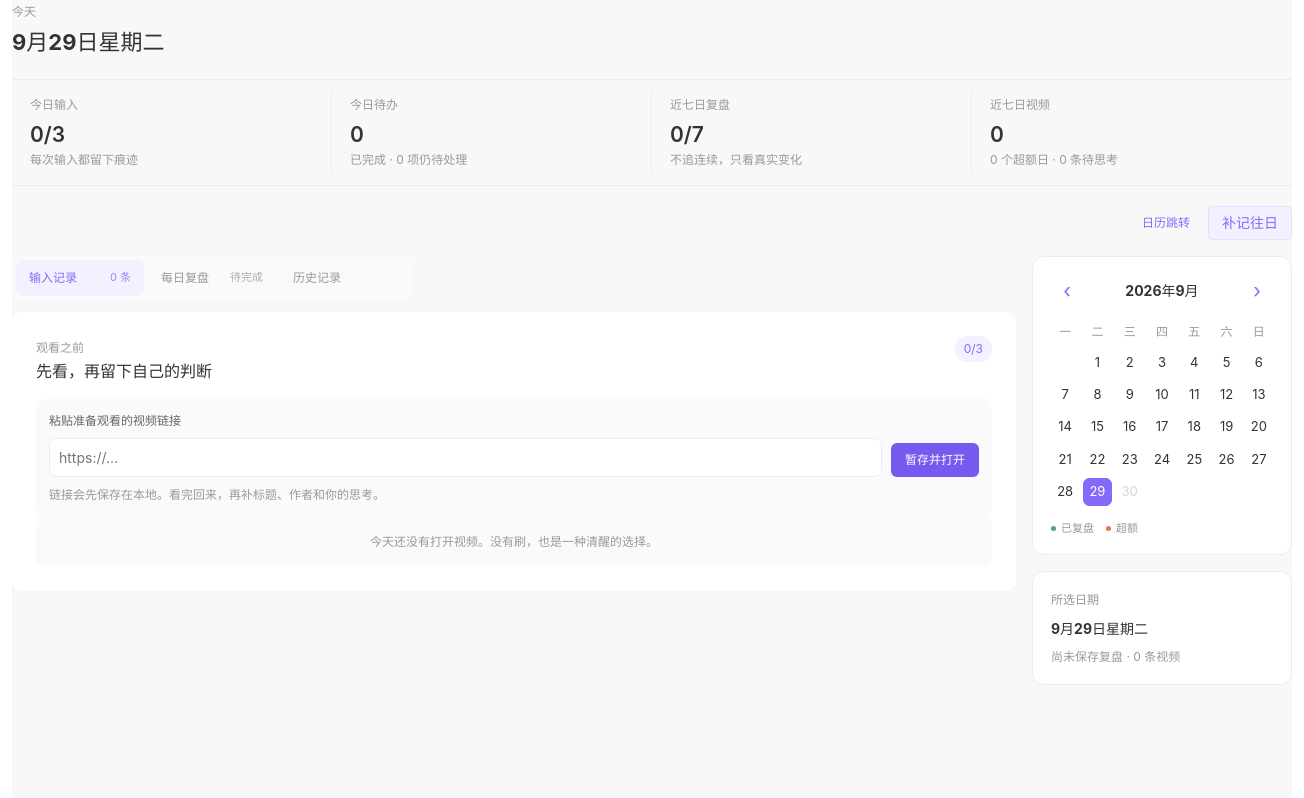
Test case: FlowView › keeps a persisted video when opening the external source fails
In the field labelled "粘贴准备观看的视频链接": coordinates (466, 457) [49, 438, 882, 476], type "https://example.com/video"
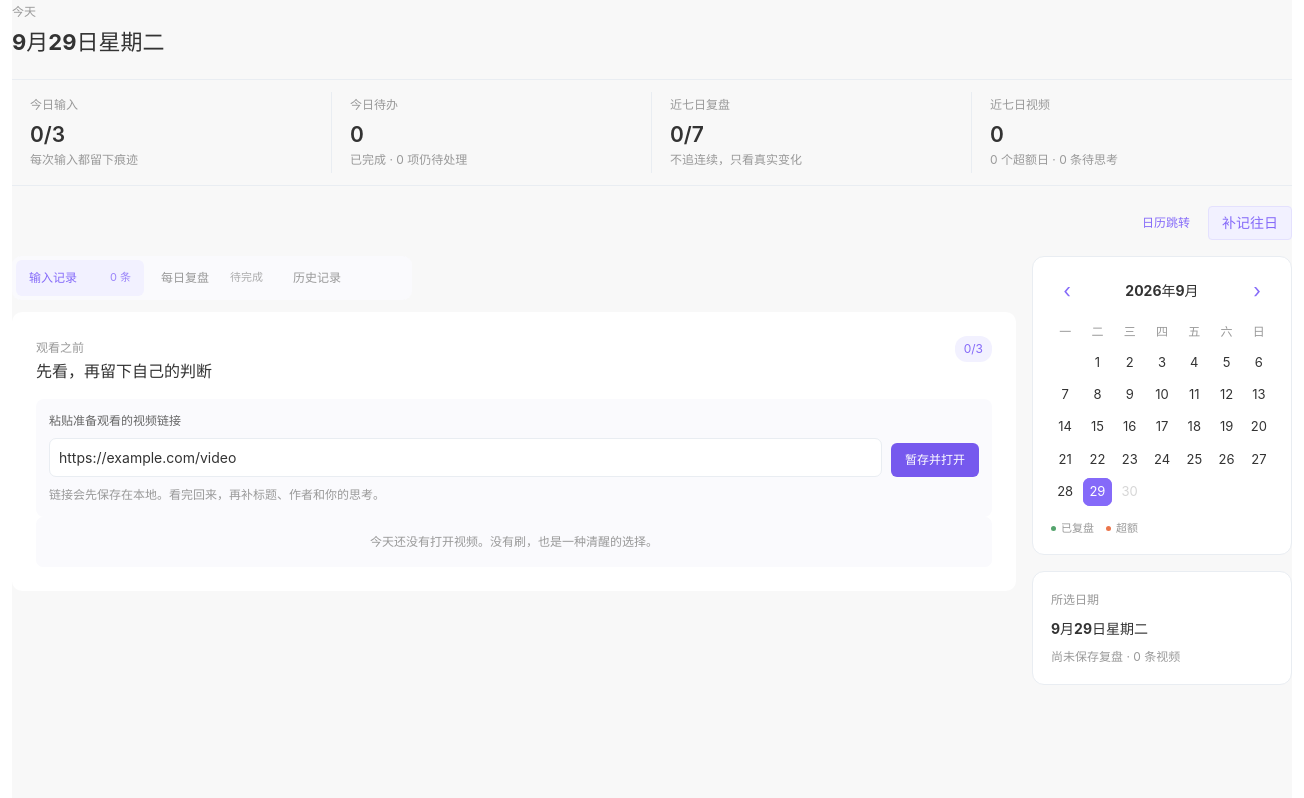
Click the button "暂存并打开": coordinates (935, 460) [891, 442, 979, 476]
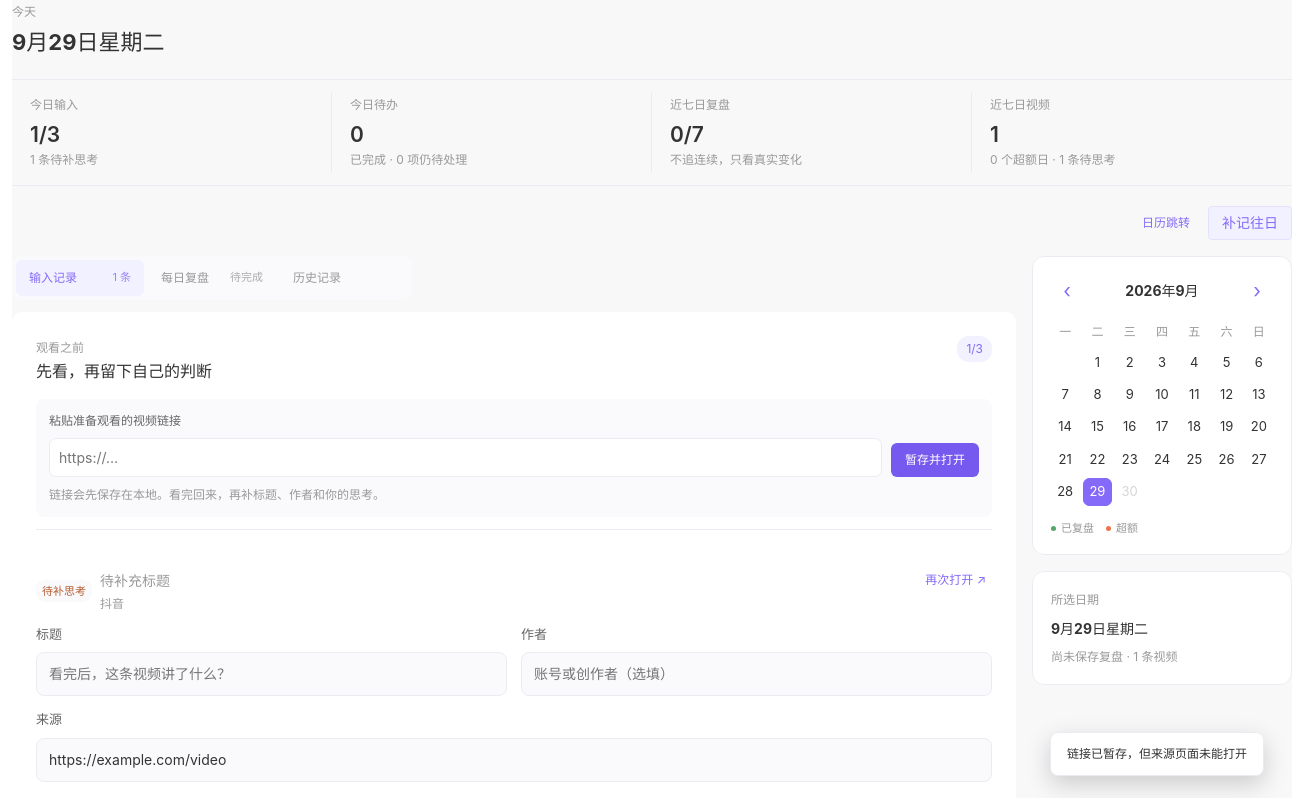
Check: the text "链接已暂存，但来源页面未能打开" is shown, box [1050, 732, 1264, 776]
Check: the text "待补充标题" is shown, box [100, 570, 170, 590]
